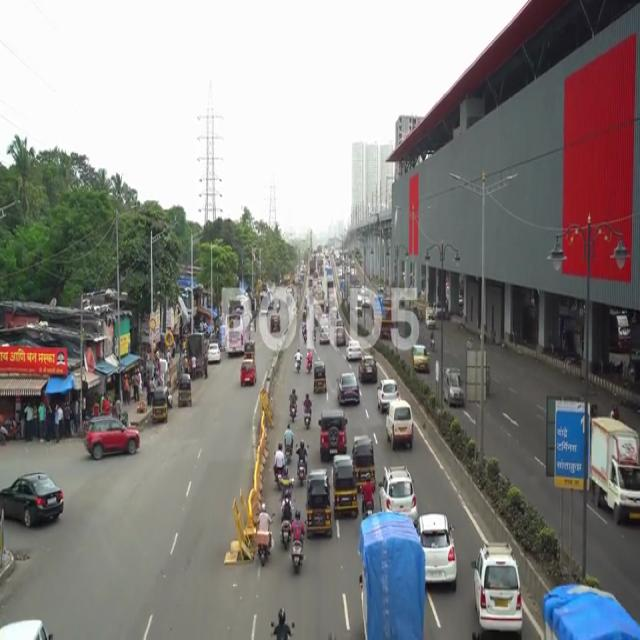car: (468, 537, 526, 639), (0, 469, 65, 529), (426, 514, 461, 594), (84, 414, 142, 459), (386, 400, 414, 450), (318, 414, 348, 456), (444, 368, 466, 408), (336, 372, 360, 407), (411, 345, 430, 374)
motorbike: (256, 500, 276, 568), (278, 488, 293, 554), (292, 511, 305, 577), (295, 438, 307, 487), (302, 391, 313, 432), (288, 382, 298, 423), (284, 422, 293, 464), (293, 345, 301, 377), (306, 346, 312, 376)
rikshaw: (306, 473, 332, 542), (333, 458, 358, 522), (314, 361, 326, 395)
truck: (359, 514, 424, 640), (592, 415, 640, 527)
